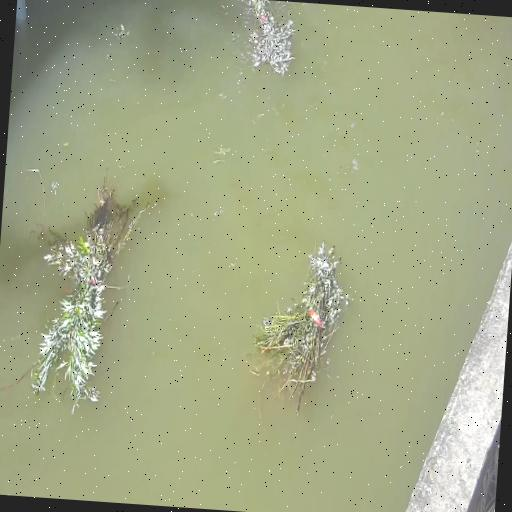twig: (8, 164, 158, 418), (246, 234, 354, 422), (221, 0, 298, 87)
